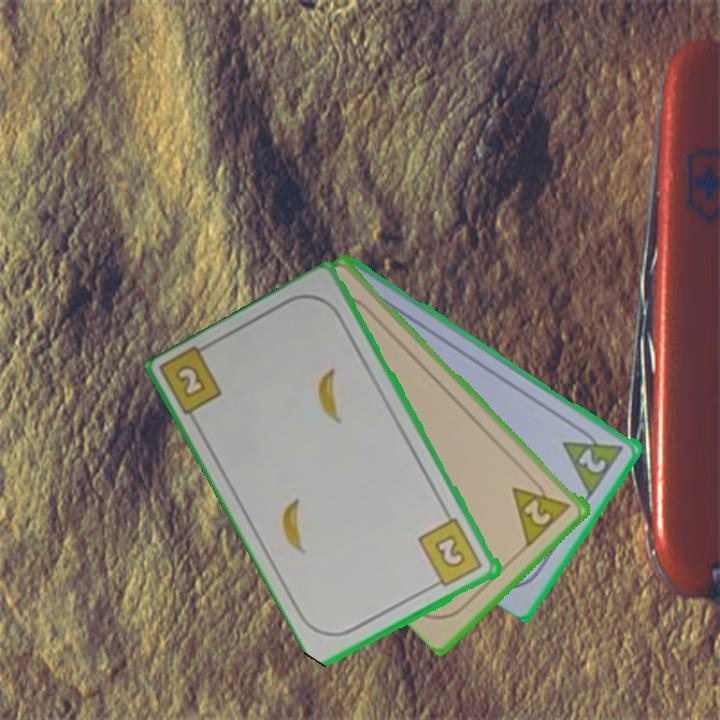2b: (415, 515, 486, 591), (171, 361, 209, 401)
2p: (509, 471, 575, 548), (575, 445, 610, 476)
